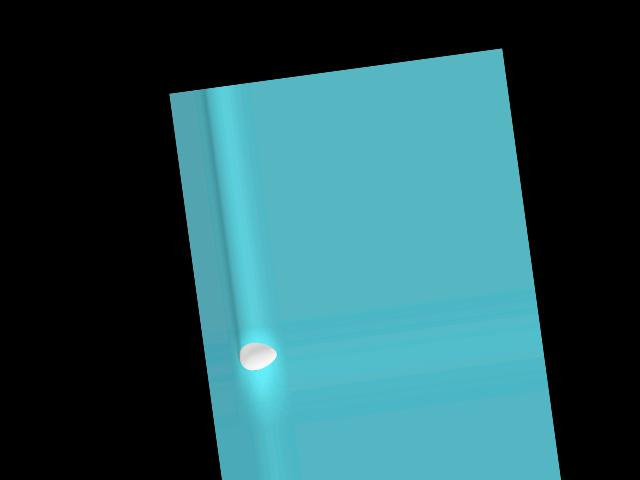egg: (237, 339, 277, 371)
